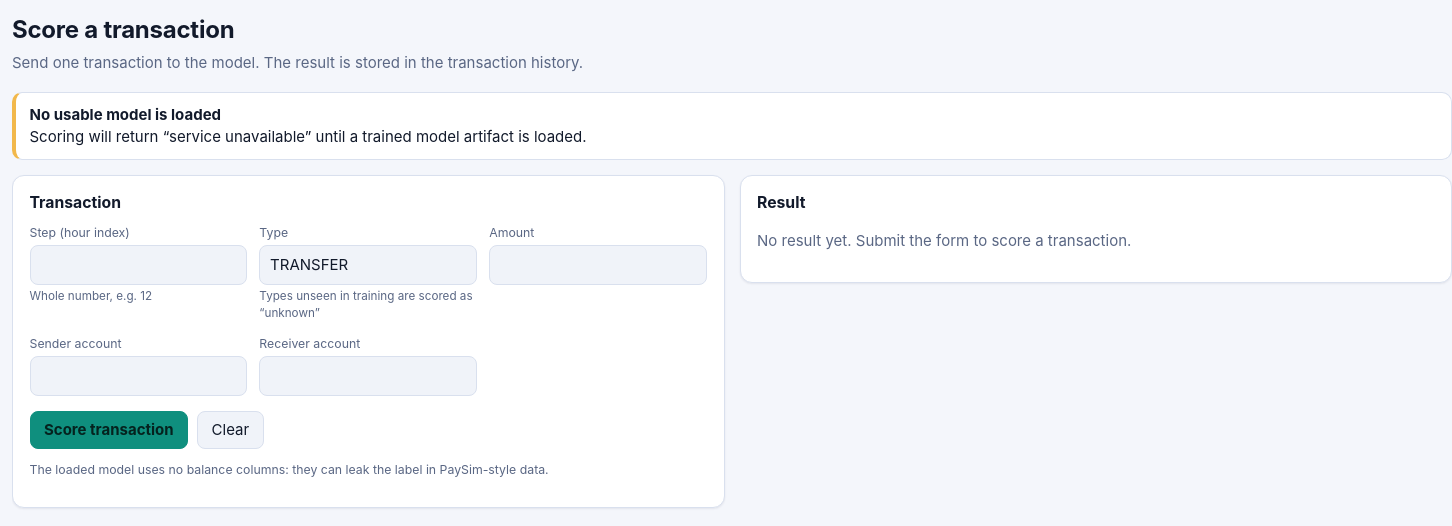
Scenario: pages › score form: shows 503 when no model is loaded
This screenshot has width=1452, height=526.
In the field labelled "Step (hour index)": (138, 265) [30,245,247,285], type "5"
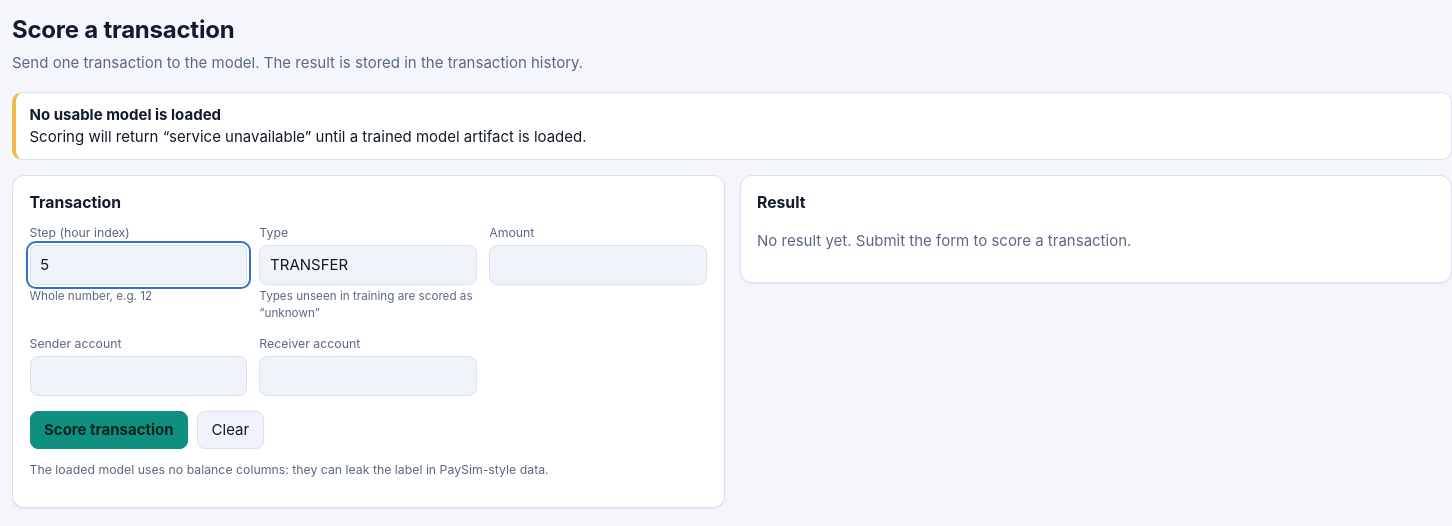
In the field labelled "Amount": (598, 265) [489,245,707,285], type "1"
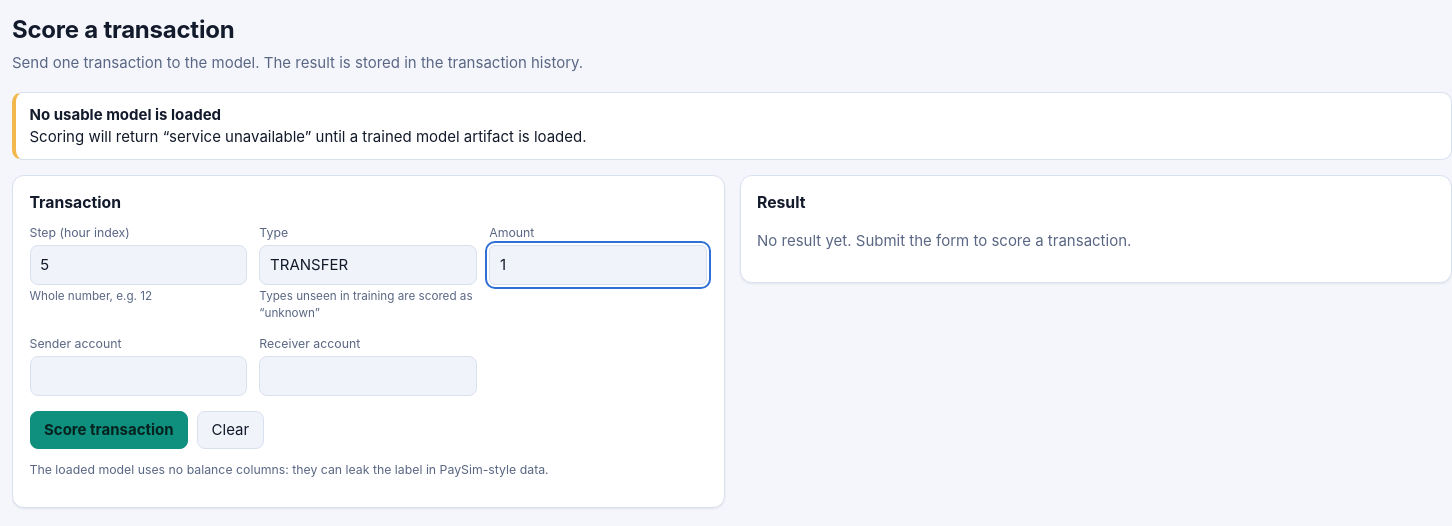
In the field labelled "Sender account": (138, 376) [30,356,247,396], type "C1"
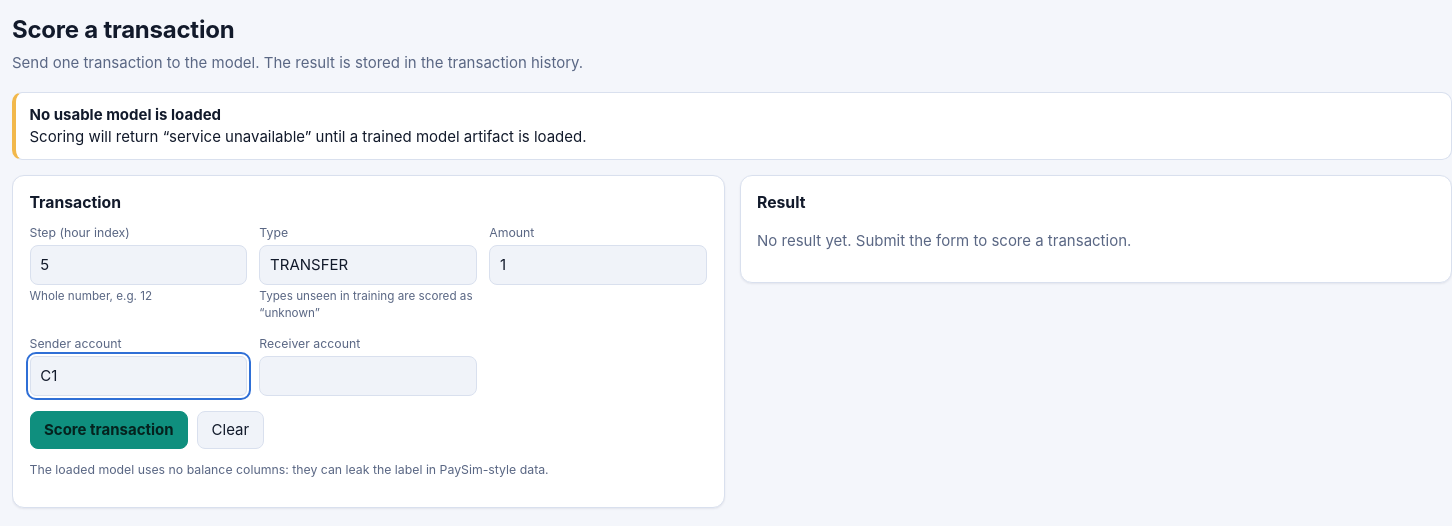
In the field labelled "Receiver account": (368, 376) [259,356,477,396], type "C2"
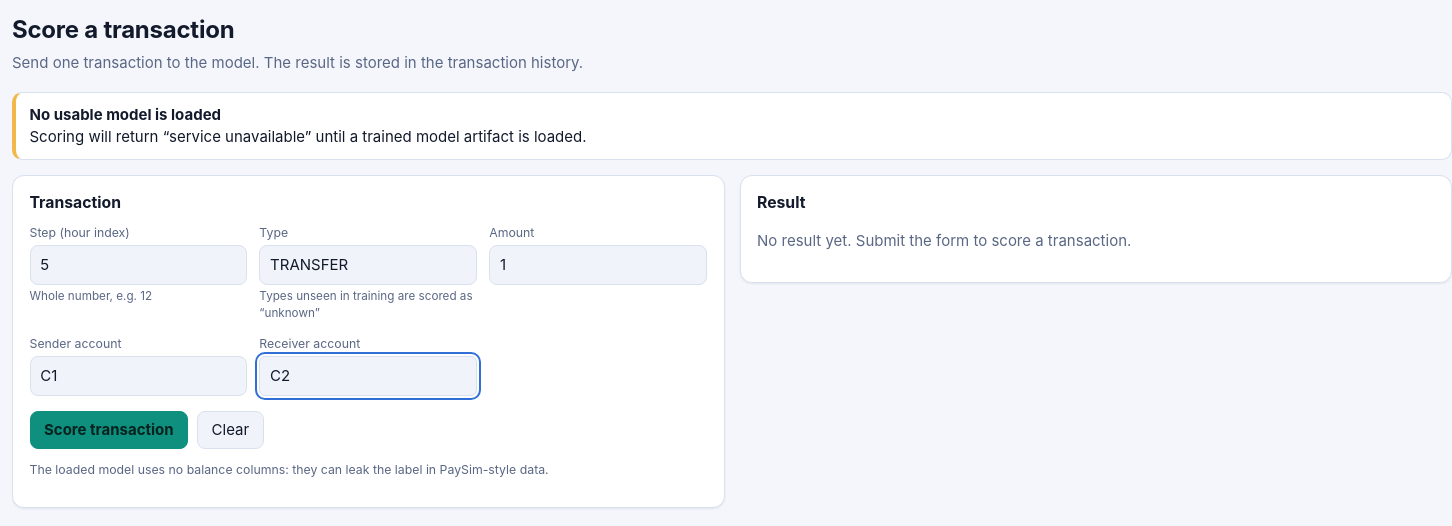
Click the button "Score transaction": (109, 430) [30,411,188,449]
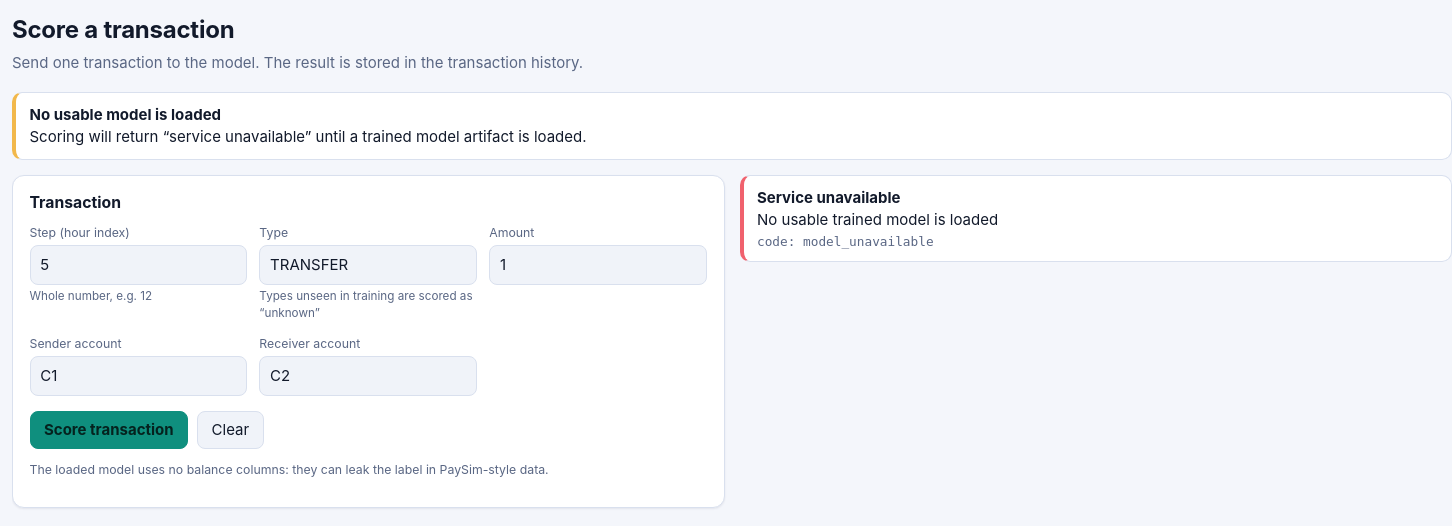
Expected: the message "Service unavailable No usable trained model is loaded code: model_unavailable" is shown, [740,175,1451,262]
